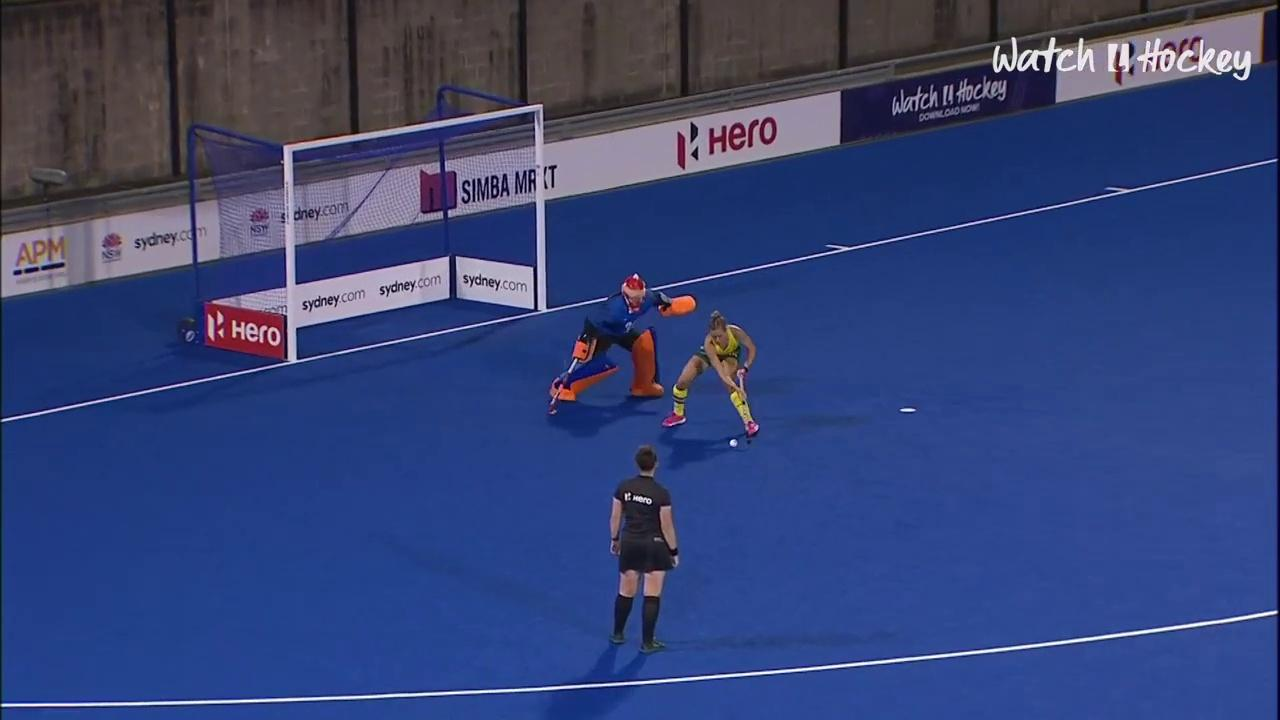ball: (719, 430, 743, 456)
